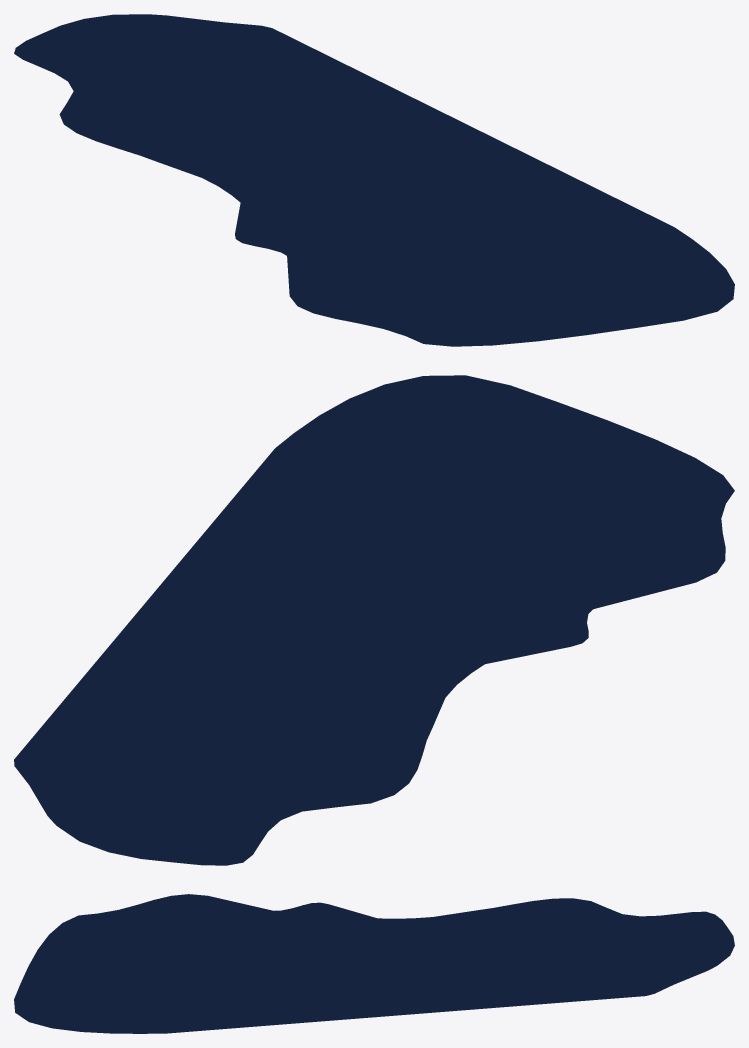
File: Environment_Water.fbx
3 renders of one model, top to bottom at view 1: azimuth 30°, elevation 25°; view 2: azimuth 150°, elevation 25°; view 3: azimuth 270°, elevation 25°, orthographic. The views are drawn at different scales.
Parts seen in each view (by area): view 1: BO_stage1_water; view 2: BO_stage1_water; view 3: BO_stage1_water.
Boxes of the visible parts, left/top/right/bottom form: BO_stage1_water: left=14, top=14, right=734, bottom=346; BO_stage1_water: left=14, top=375, right=734, bottom=865; BO_stage1_water: left=14, top=894, right=734, bottom=1033.
Bounding box in the file's own units: 1675 × 3649 × 0.
